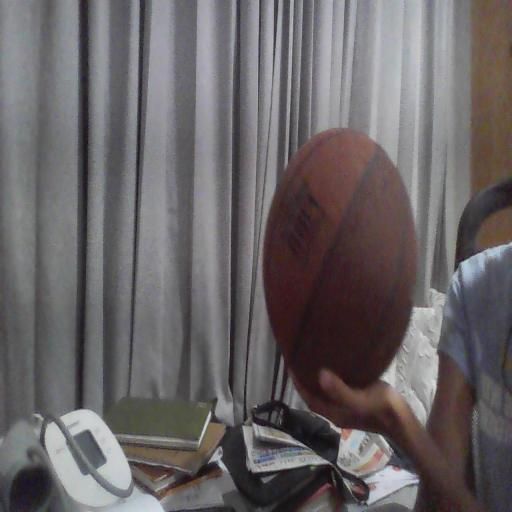basketball: (263, 128, 417, 393)
